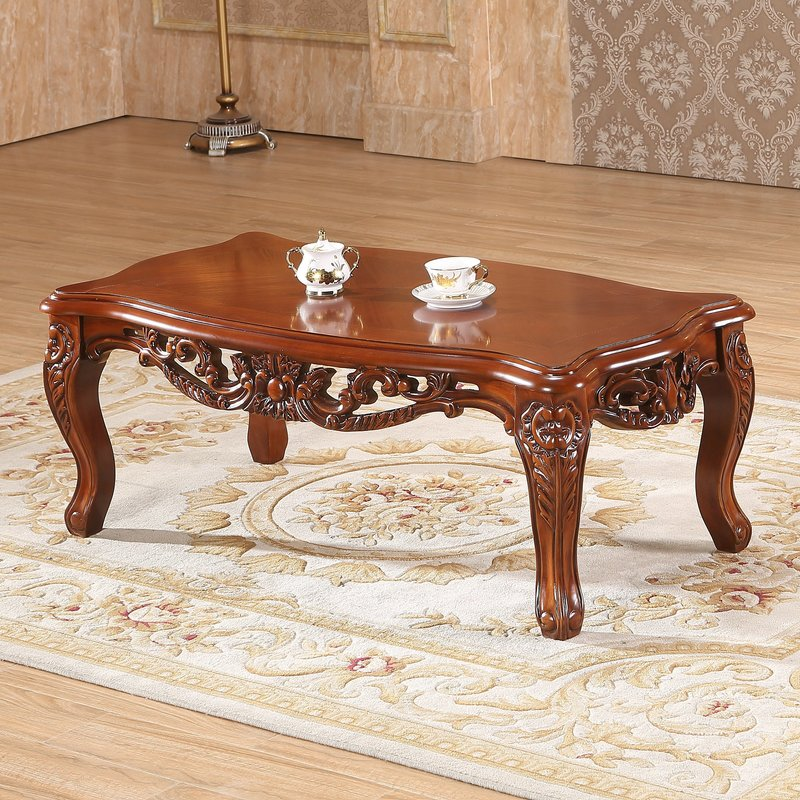Carving Table: (37, 223, 774, 669)
